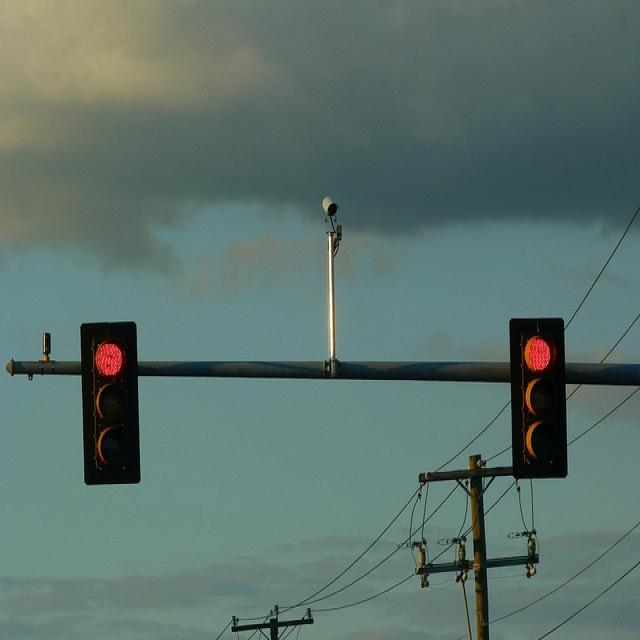pole: (461, 449, 500, 632)
